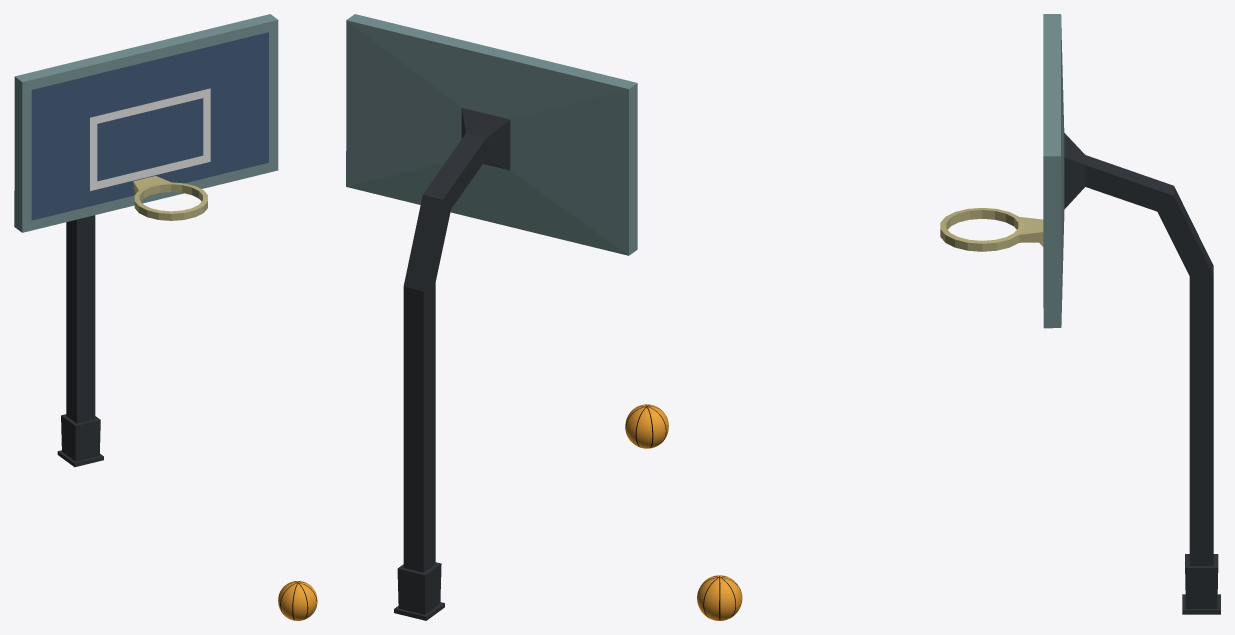
Rendered from BasketBall Idle.fbx.
3 renders of one model, left to right at view 1: azimuth 30°, elevation 25°; view 2: azimuth 150°, elevation 25°; view 3: azimuth 270°, elevation 25°, orthographic. The views are drawn at different scales.
Parts seen in each view (by area): view 1: Box001, Cylinder001, Sphere; view 2: Box001, Sphere; view 3: Box001, Cylinder001, Sphere.
Part boxes in pixels (left/top/right/bottom): Box001: left=14, top=14, right=278, bottom=467; Cylinder001: left=133, top=176, right=207, bottom=220; Sphere: left=278, top=581, right=317, bottom=620; Box001: left=346, top=14, right=637, bottom=620; Sphere: left=625, top=404, right=668, bottom=448; Box001: left=1043, top=14, right=1220, bottom=614; Cylinder001: left=940, top=208, right=1043, bottom=251; Sphere: left=697, top=575, right=742, bottom=620.
Bounding box in the file's own units: 2657 × 4618 × 4133.
